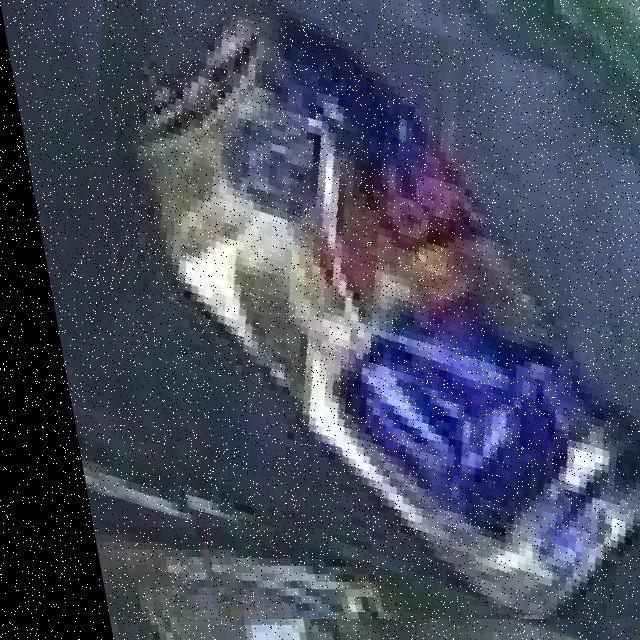can: (86, 1, 640, 619)
